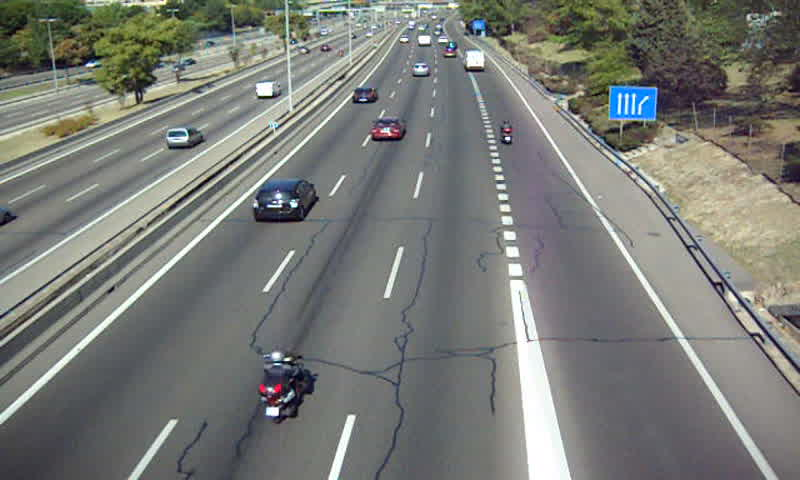car: (250, 180, 314, 223), (369, 117, 406, 141), (349, 86, 379, 104), (410, 62, 428, 77), (440, 46, 458, 58), (397, 32, 410, 45)
motorcycle: (256, 349, 308, 419), (498, 118, 516, 146)
van: (462, 50, 486, 71)
